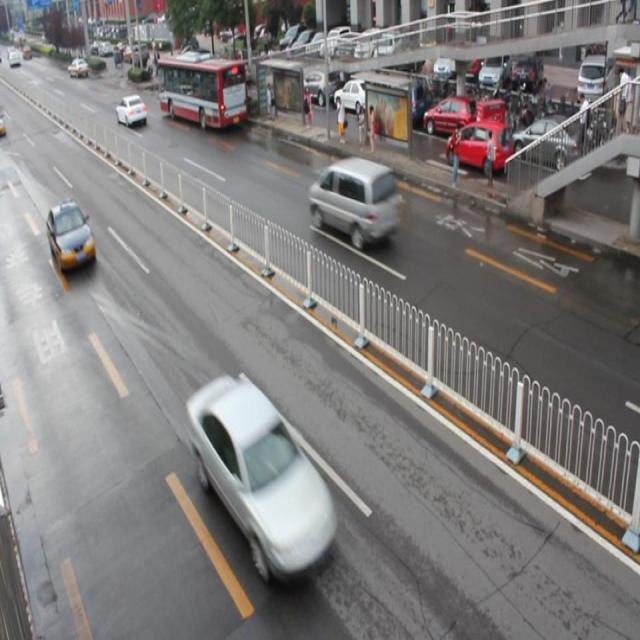car: (187, 370, 336, 574), (46, 199, 95, 273), (116, 92, 148, 128)
truck: (308, 156, 396, 246)
van: (158, 54, 247, 125)
